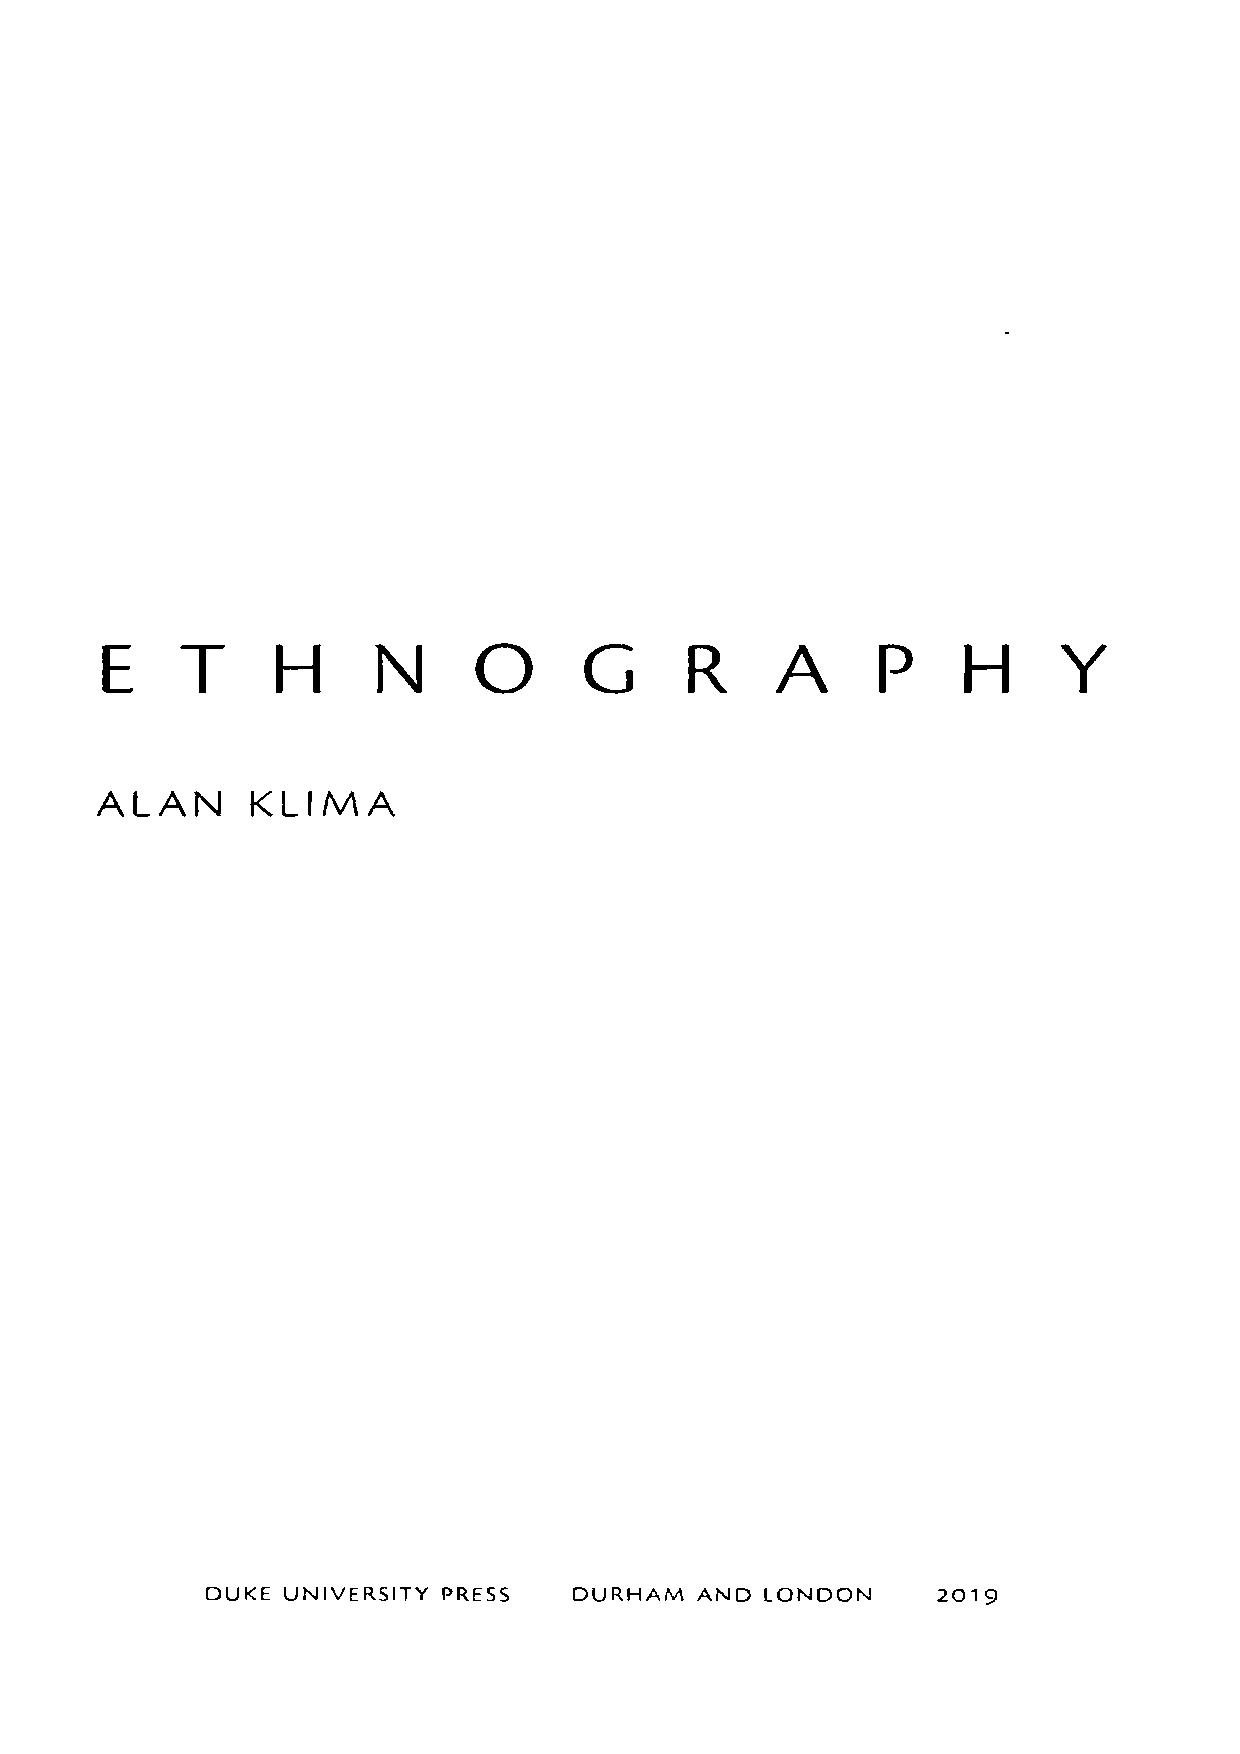author: (93, 786, 392, 820)
title: (98, 639, 1106, 698)
